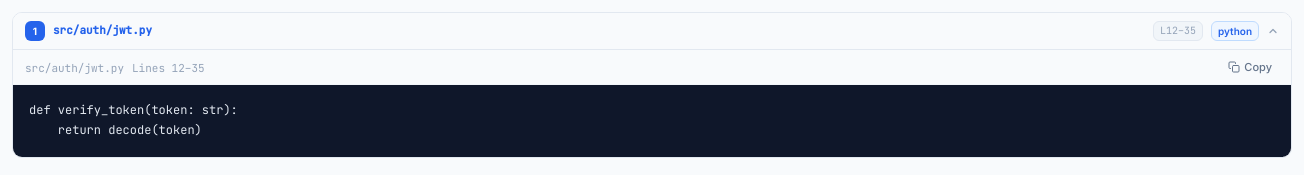
Test: CitationCard › collapses when header is clicked
This screenshot has width=1304, height=175.
Expected: the text "def verify_token(token: str): return decode(token)" is shown, [29,102,238,138]
Note: Click to collapse
Step 1. Click the button named "Citation 1" → (102, 30), box [13,13,1291,49]
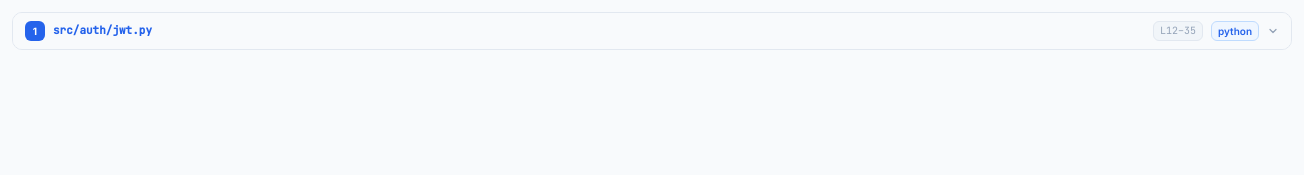
Expected: the text "def verify_token" is gone
Note: Click to expand again
Step 2. Click the button named "Citation 1" → (102, 30), box [13,13,1291,49]
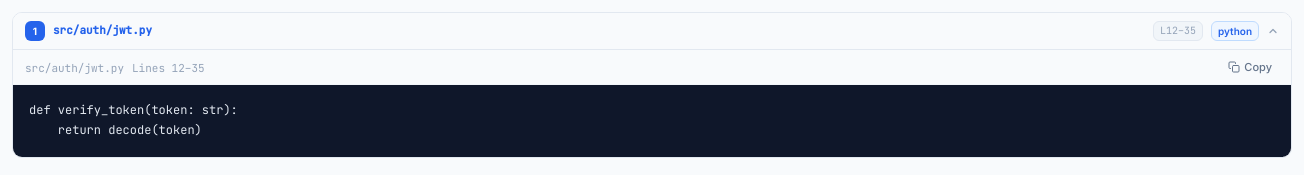
Expected: the text "def verify_token(token: str): return decode(token)" is shown, [29,102,238,138]
